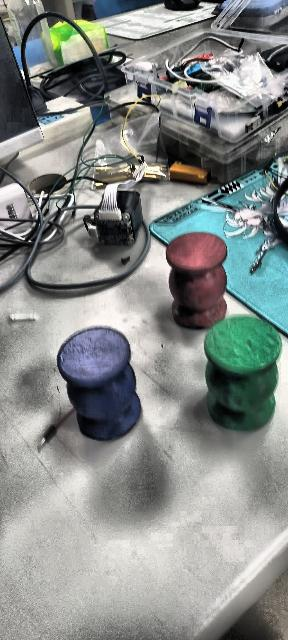blue: (56, 326, 142, 440)
green: (203, 314, 280, 435)
red: (166, 234, 228, 331)
